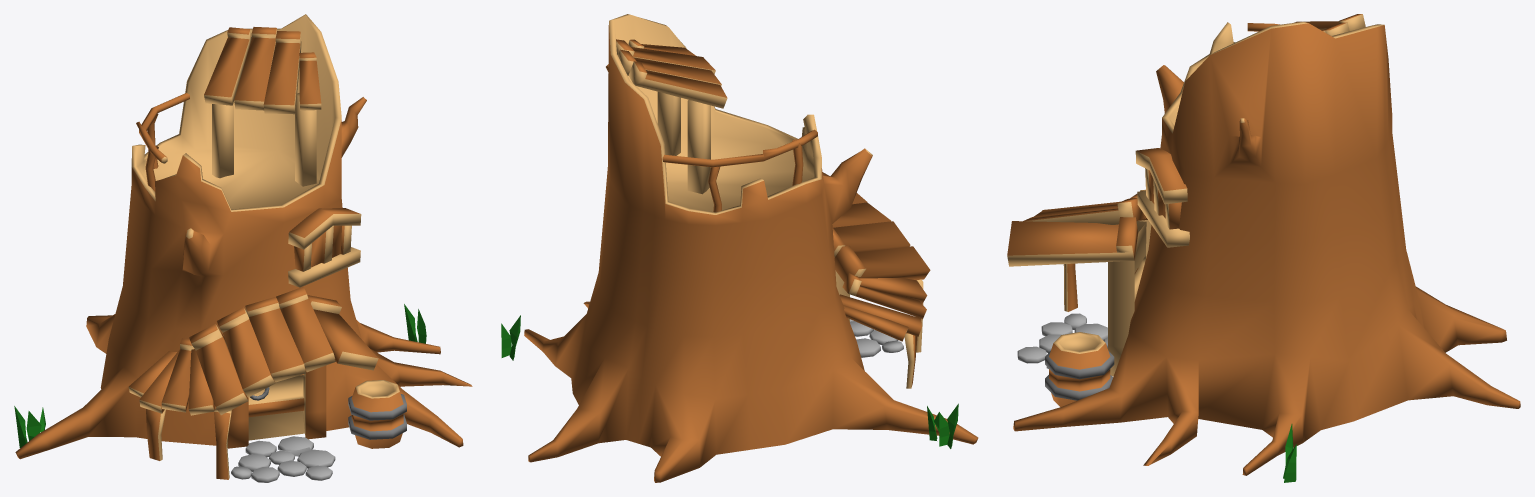
File: tree-house.gltf
3 views of the same model, side by side, from view 1: azimuth 30°, elevation 25°; view 2: azimuth 150°, elevation 25°; view 3: azimuth 270°, elevation 25° (orthographic). The views are drawn at different scales.
Parts seen in each view (by area): view 1: node-0; view 2: node-0; view 3: node-0.
Boxes of the visible parts, bbox=[...] form: node-0: bbox=[14, 14, 472, 482]; node-0: bbox=[501, 14, 978, 482]; node-0: bbox=[1007, 14, 1520, 482].
Size of the model in its own units: 4.99 by 3.89 by 4.53.
